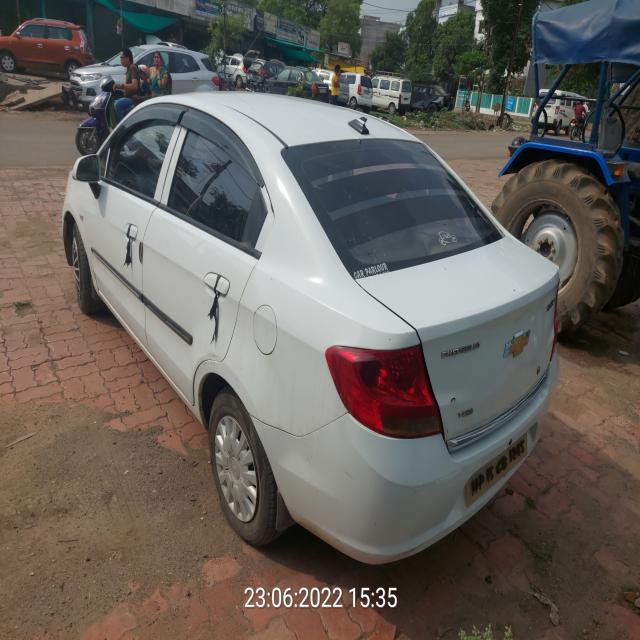damage: (446, 391, 461, 407), (445, 424, 450, 438)
